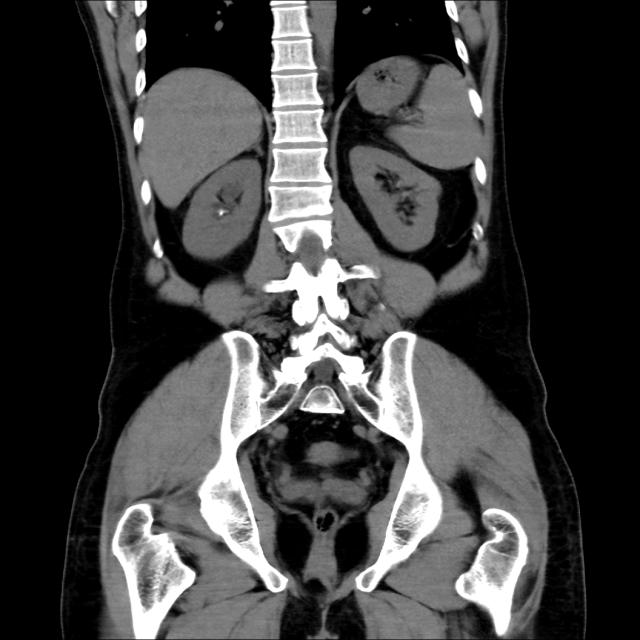kidneystone: (218, 208, 226, 218)
